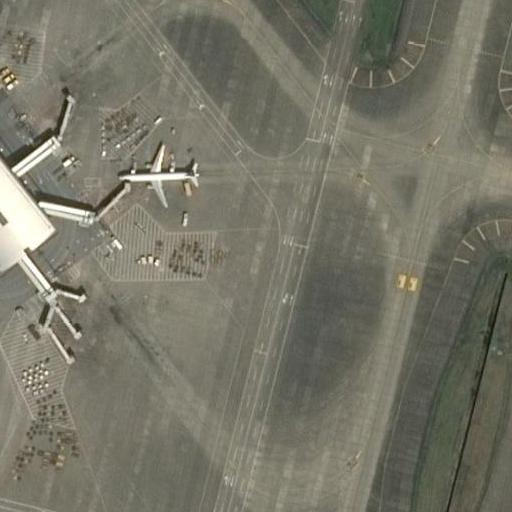Aircraft: (120, 143, 201, 206)
